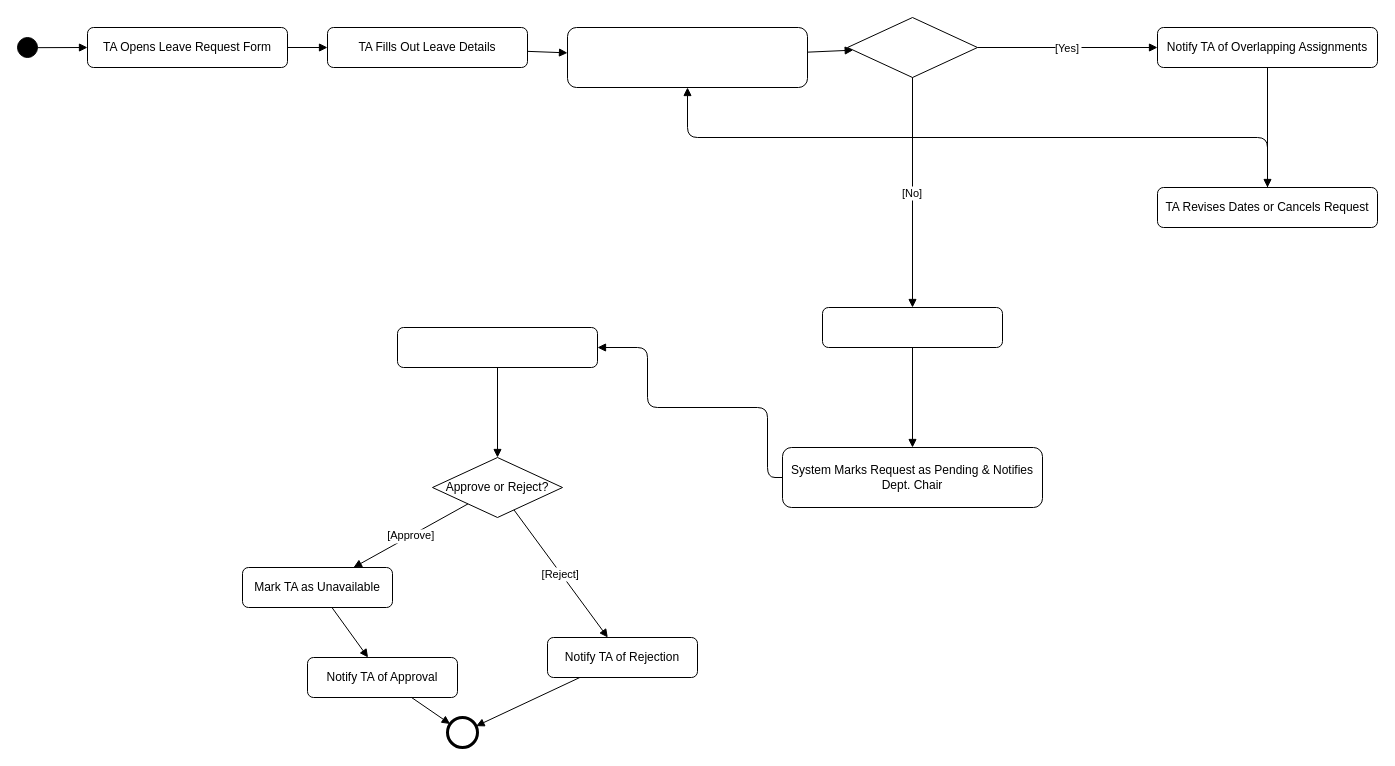
Some shapes in this 1395 by 766 pixel diagram are drawn without their labels. Each missing label, with the centre of its shape:
Conflicts Found?: the point at 912,47
Dept. Chair / Staff Reviews Request: the point at 497,347
System Checks for Conflicts (Tasks/Proctoring): the point at 687,57
TA Submits Leave Request: the point at 912,327
